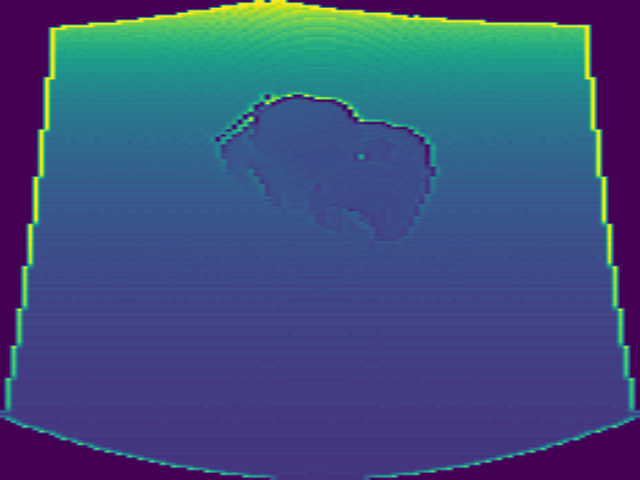car_0027: (221, 93, 438, 241)
